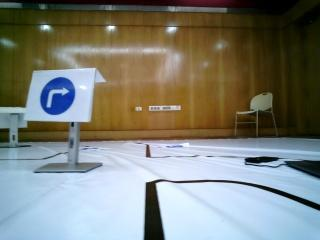right: (10, 66, 89, 118)
